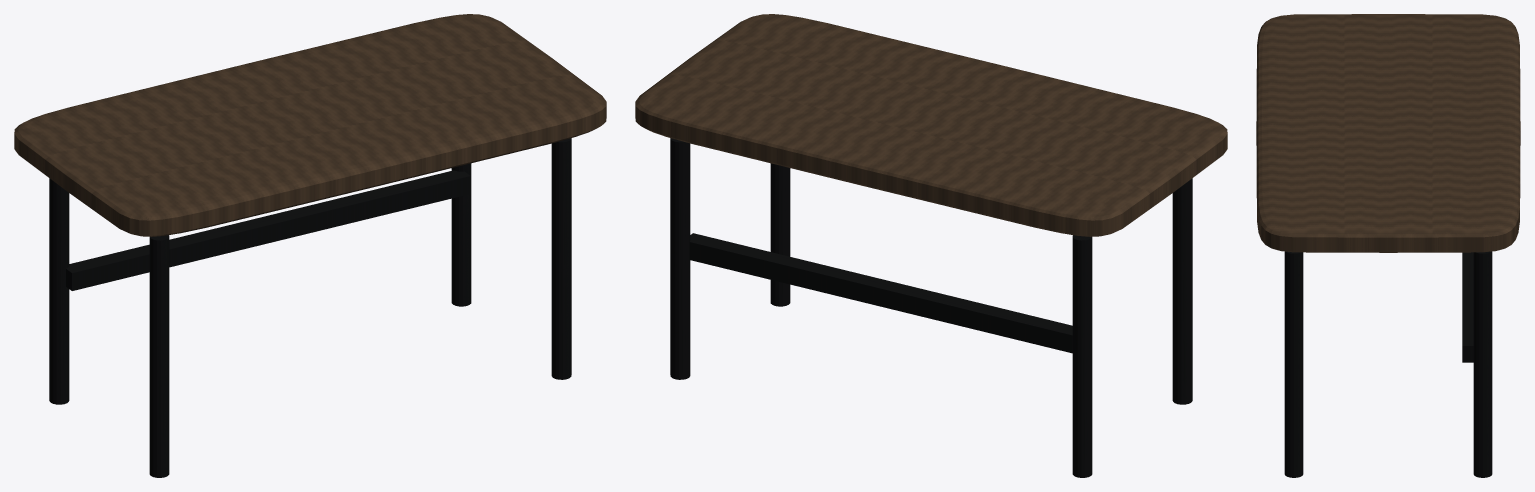
The model's file is office-desk-1400_lod1.glb.
The picture shows the model from 3 angles, left to right: view 1: azimuth 30°, elevation 25°; view 2: azimuth 150°, elevation 25°; view 3: azimuth 270°, elevation 25°; orthographic projection. The views are drawn at different scales.
Visible parts, largest first — view 1: top, crossbeam, leg_3, leg_4, leg_1, leg_2; view 2: top, crossbeam, leg_1, leg_2, leg_3, leg_4; view 3: top, leg_4, leg_2, crossbeam.
Part boxes in pixels (<box>): top: <box>14,14,606,236</box>; crossbeam: <box>66,170,470,290</box>; leg_3: <box>149,235,169,477</box>; leg_4: <box>551,138,571,379</box>; leg_1: <box>49,178,69,404</box>; leg_2: <box>451,163,471,306</box>; top: <box>635,14,1227,236</box>; crossbeam: <box>689,233,1072,353</box>; leg_1: <box>1072,235,1092,477</box>; leg_2: <box>670,138,690,379</box>; leg_3: <box>1172,178,1192,404</box>; leg_4: <box>770,163,790,306</box>; top: <box>1256,14,1520,252</box>; leg_4: <box>1284,251,1303,477</box>; leg_2: <box>1473,251,1492,477</box>; crossbeam: <box>1462,252,1473,362</box>.
Bounding box in the file's own units: 1.4 × 0.76 × 0.7.
Materials: 2 (2 with a texture image).
